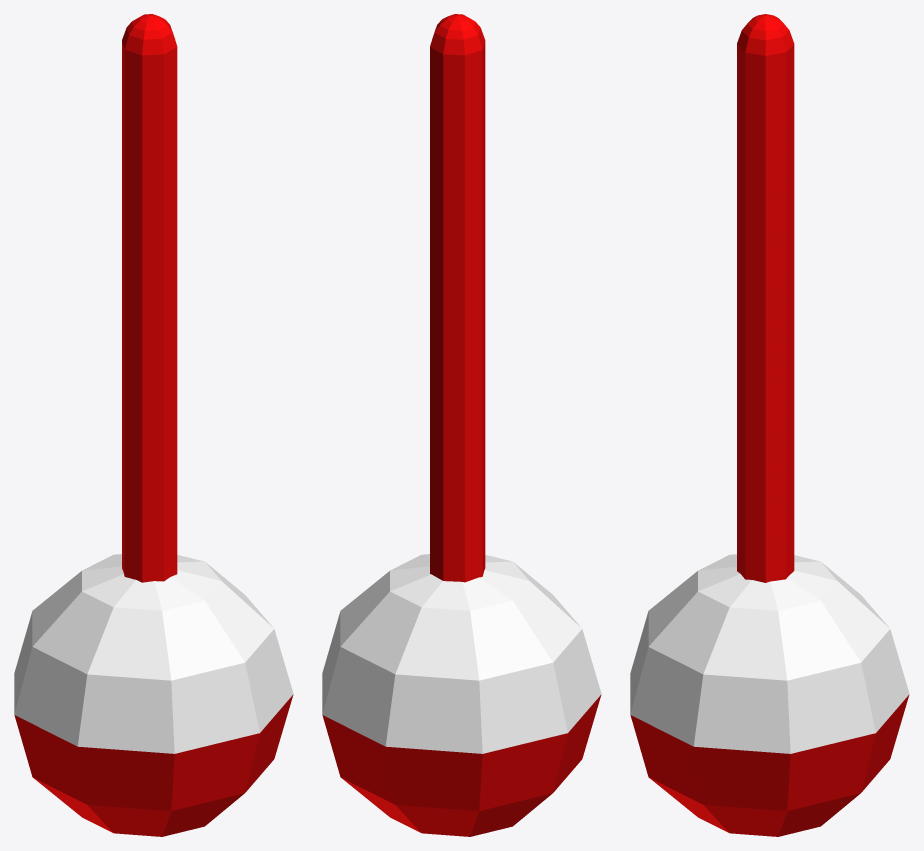
The model's file is Bobber.fbx.
3 views of the same model, side by side, from view 1: azimuth 30°, elevation 25°; view 2: azimuth 150°, elevation 25°; view 3: azimuth 270°, elevation 25° (orthographic).
Visible parts, largest first — view 1: Cylinder; view 2: Cylinder; view 3: Cylinder.
Part boxes in pixels (box(x1,y1,x2,y2)): Cylinder: box(14, 14, 293, 836); Cylinder: box(322, 14, 601, 836); Cylinder: box(630, 14, 909, 836).
Bounding box in the file's own units: 1.97 × 6.2 × 1.94.
1 material, 1 textured.
